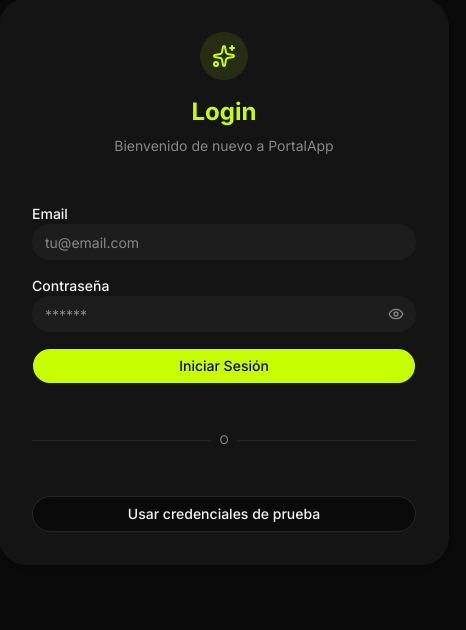
Test: LoginPage › muestra errores de validación al enviar el formulario vacío
The image size is (466, 630).
Click the button "Iniciar Sesión" at (224, 366), box [32,348,416,384]
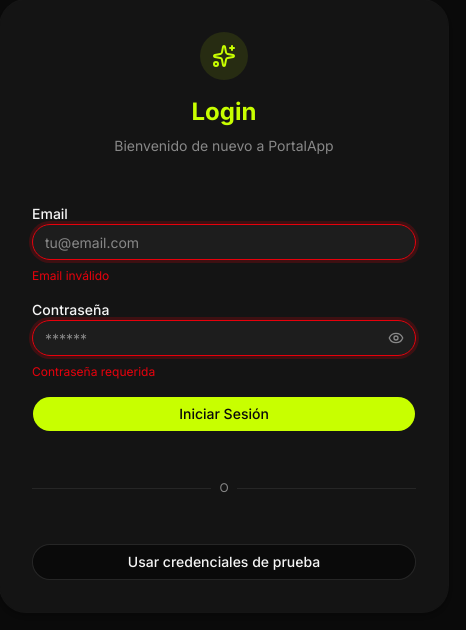
Check: the text "Email inválido" is shown, box [32,268,109,283]
